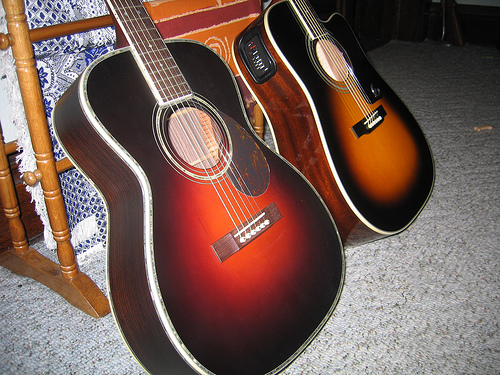guitar: (49, 1, 348, 375)
